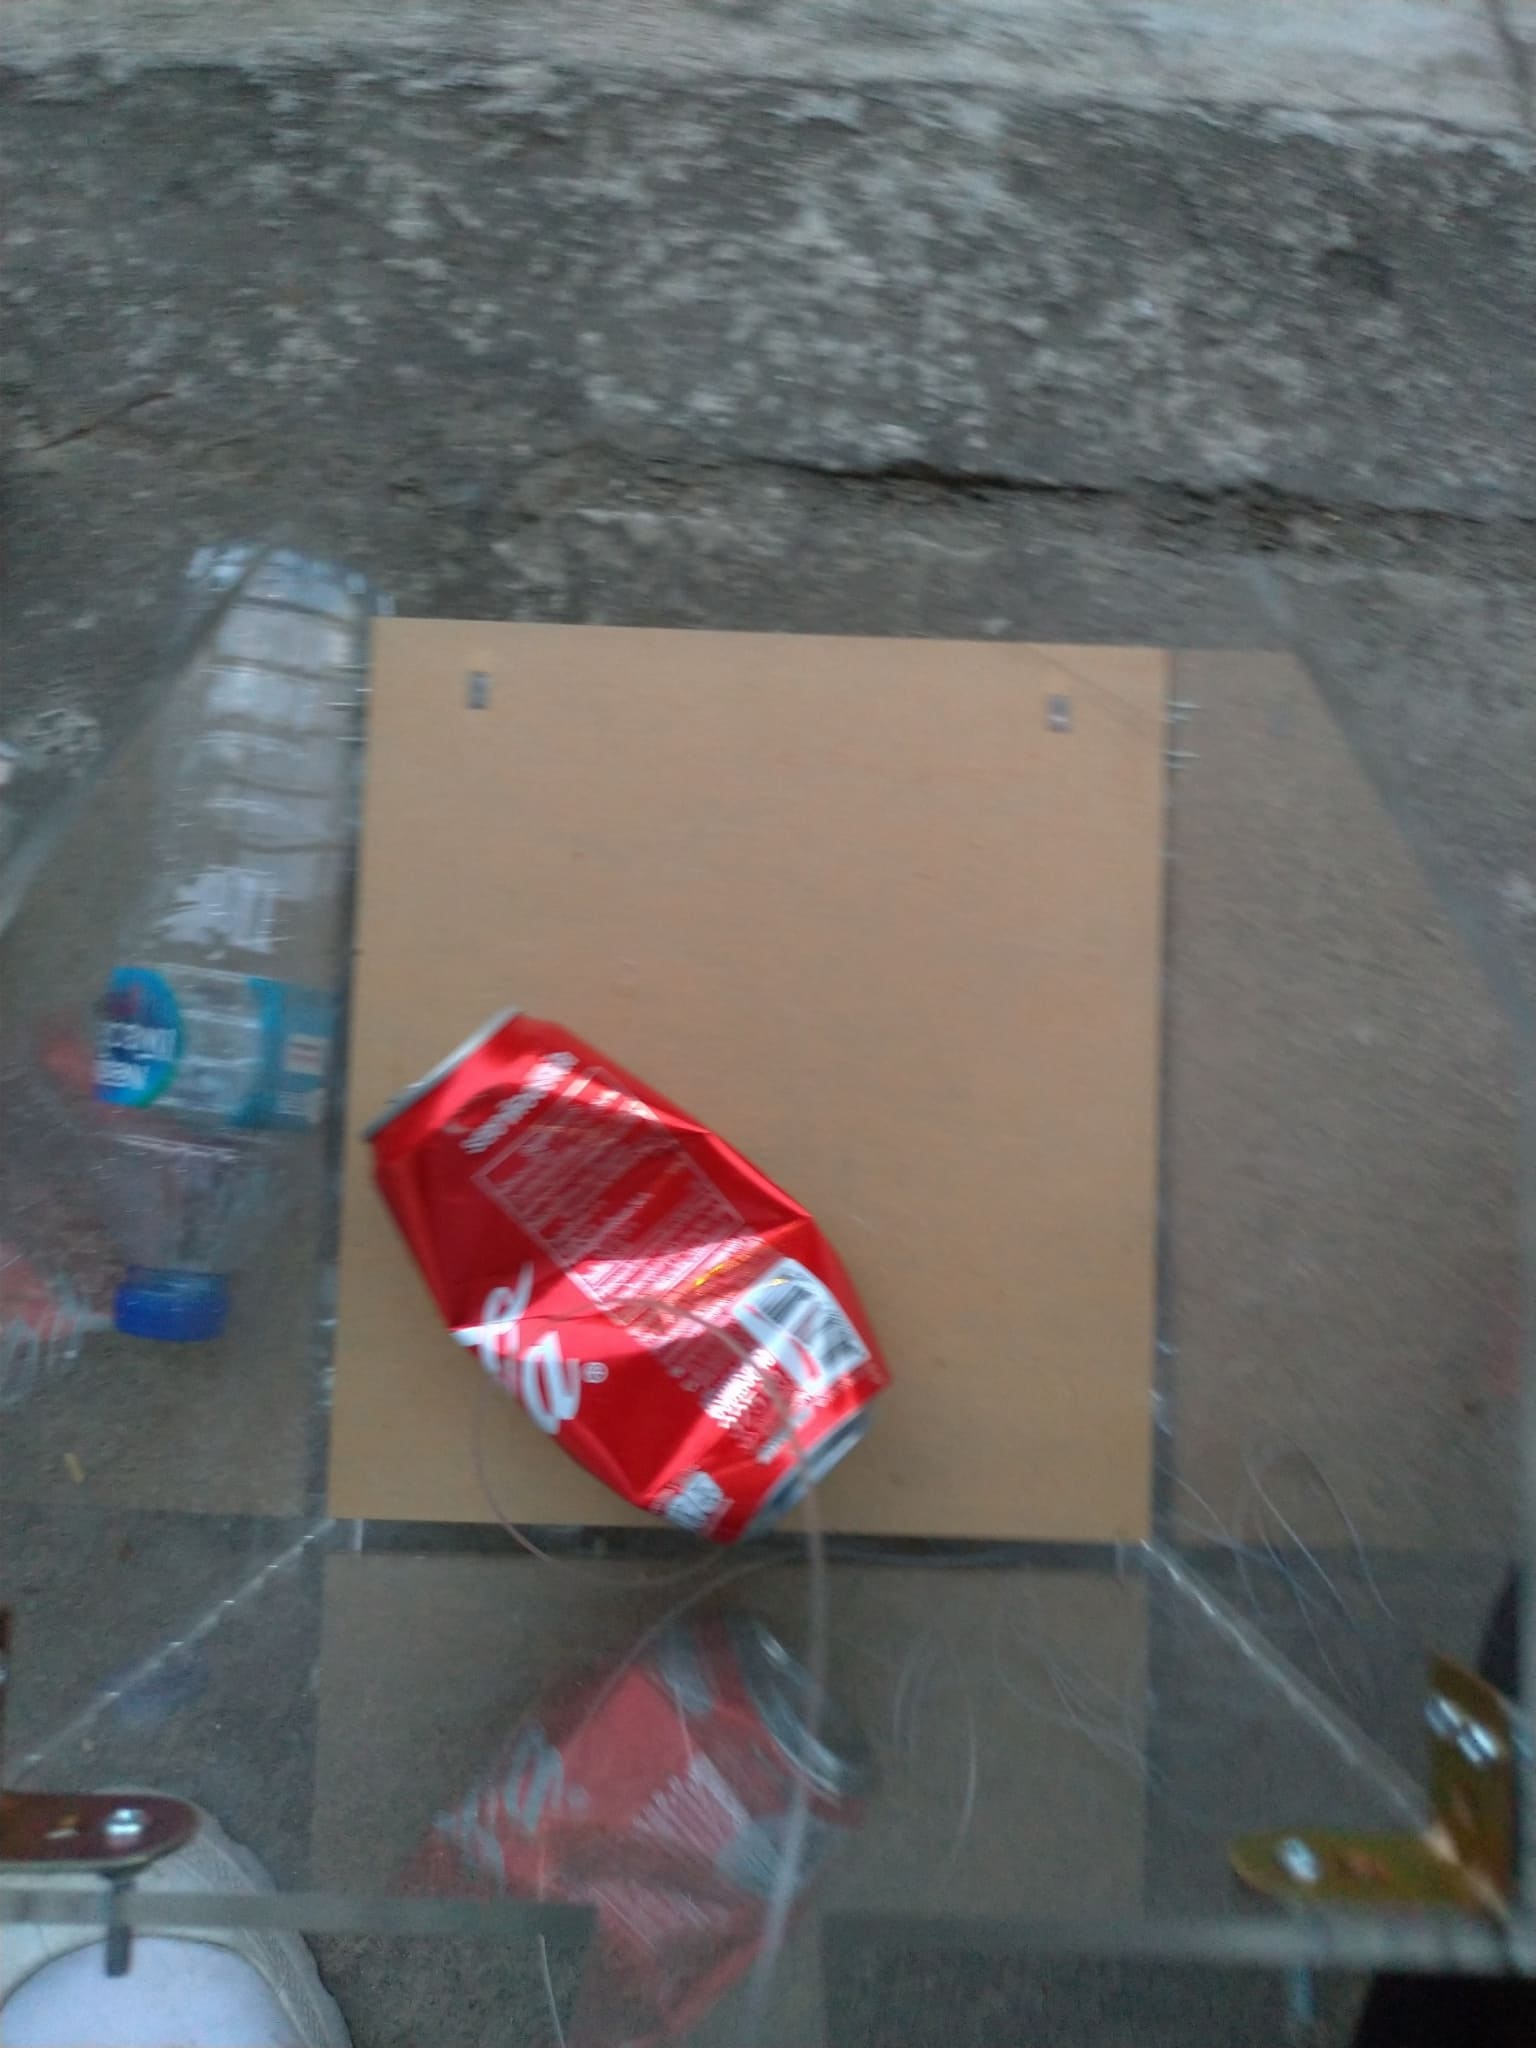AlCan: (369, 1006, 878, 1535)
PlasticBottle: (77, 545, 374, 1342)
